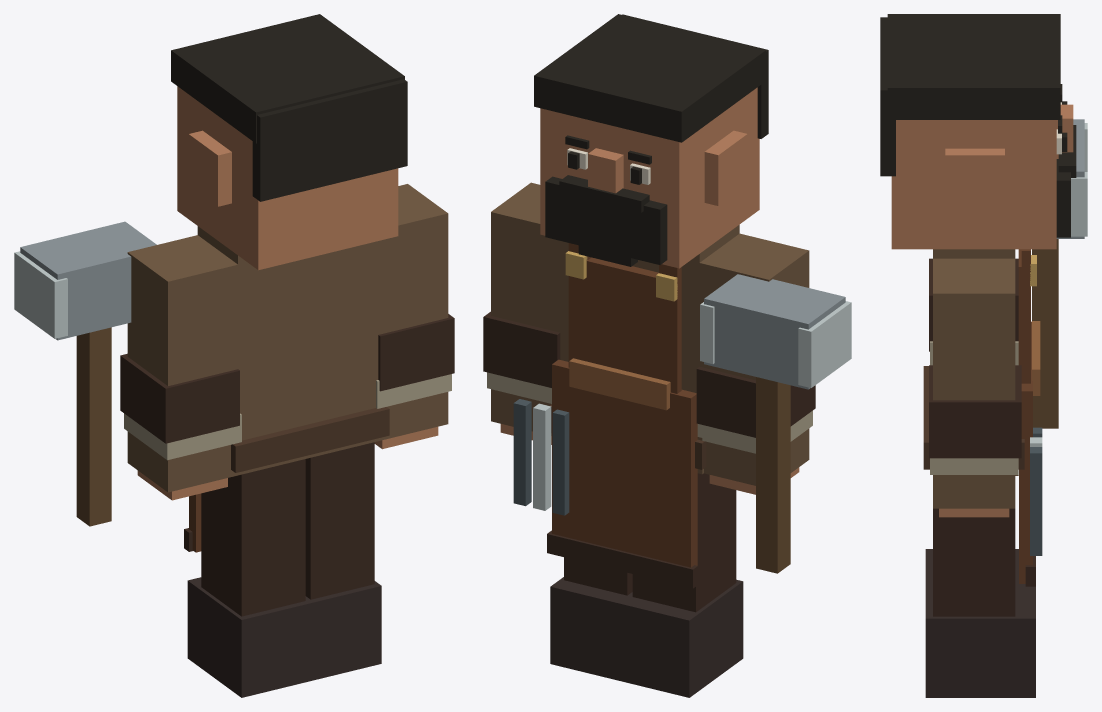
File: blacksmith.obj
The picture shows the model from 3 angles, left to right: view 1: azimuth 30°, elevation 25°; view 2: azimuth 150°, elevation 25°; view 3: azimuth 270°, elevation 25°; orthographic projection. The views are drawn at different scales.
Parts seen in each view (by area): view 1: body_0_chest, right_arm_18_right_arm, head_3_head, head_13_hair_cap, right_leg_24_right_leg, head_14_hair_back, left_arm_19_left_arm, right_leg_26_right_boot, left_leg_25_left_leg, equipment_right_44_hammer_head, right_arm_42_right_bracer, equipment_right_43_hammer_handle (+9 smaller); view 2: body_31_apron_skirt, head_13_hair_cap, head_3_head, right_leg_26_right_boot, equipment_right_44_hammer_head, left_arm_19_left_arm, body_30_apron_chest, right_arm_18_right_arm, equipment_right_43_hammer_handle, head_15_beard, right_leg_24_right_leg, left_leg_27_left_boot (+19 smaller); view 3: head_13_hair_cap, head_3_head, left_arm_19_left_arm, left_leg_27_left_boot, left_leg_25_left_leg, left_arm_41_left_bracer, equipment_right_43_hammer_handle, head_4_left_ear, body_31_apron_skirt, head_14_hair_back, left_arm_22_cuff, body_40_tools (+13 smaller).
Boxes of the visible parts, left/top/right/bottom form: body_0_chest: left=197, top=226, right=378, bottom=475; right_arm_18_right_arm: left=127, top=235, right=237, bottom=492; head_3_head: left=177, top=86, right=398, bottom=270; head_13_hair_cap: left=171, top=14, right=404, bottom=143; right_leg_24_right_leg: left=201, top=459, right=305, bottom=616; head_14_hair_back: left=252, top=79, right=407, bottom=201; left_arm_19_left_arm: left=378, top=184, right=448, bottom=440; right_leg_26_right_boot: left=187, top=577, right=312, bottom=697; left_leg_25_left_leg: left=305, top=442, right=374, bottom=599; equipment_right_44_hammer_head: left=20, top=221, right=156, bottom=340; right_arm_42_right_bracer: left=120, top=353, right=239, bottom=443; equipment_right_43_hammer_handle: left=76, top=327, right=111, bottom=526; body_31_apron_skirt: left=552, top=359, right=697, bottom=567; head_13_hair_cap: left=534, top=14, right=765, bottom=142; head_3_head: left=540, top=87, right=759, bottom=268; right_leg_26_right_boot: left=619, top=579, right=743, bottom=697; equipment_right_44_hammer_head: left=704, top=274, right=845, bottom=389; left_arm_19_left_arm: left=491, top=182, right=560, bottom=435; body_30_apron_chest: left=574, top=257, right=670, bottom=387; right_arm_18_right_arm: left=699, top=233, right=809, bottom=485; equipment_right_43_hammer_handle: left=756, top=377, right=790, bottom=573; head_15_beard: left=545, top=176, right=667, bottom=264; right_leg_24_right_leg: left=632, top=473, right=736, bottom=612; left_leg_27_left_boot: left=550, top=577, right=632, bottom=680; head_13_hair_cap: left=887, top=14, right=1060, bottom=119; head_3_head: left=891, top=120, right=1056, bottom=249; left_arm_19_left_arm: left=933, top=258, right=1015, bottom=508; left_leg_27_left_boot: left=925, top=583, right=1035, bottom=697; left_leg_25_left_leg: left=933, top=508, right=1015, bottom=616; left_arm_41_left_bracer: left=929, top=365, right=1021, bottom=458; equipment_right_43_hammer_handle: left=1032, top=239, right=1058, bottom=428; head_4_left_ear: left=945, top=148, right=1004, bottom=207; body_31_apron_skirt: left=1019, top=321, right=1032, bottom=583; head_14_hair_back: left=880, top=17, right=895, bottom=176; left_arm_22_cuff: left=930, top=458, right=1018, bottom=474; body_40_tools: left=1030, top=447, right=1042, bottom=555.
Bounding box in the file's own units: 1.29 × 2.05 × 0.6281.
